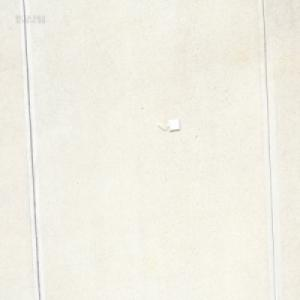LuggageTag: (156, 117, 180, 133)
